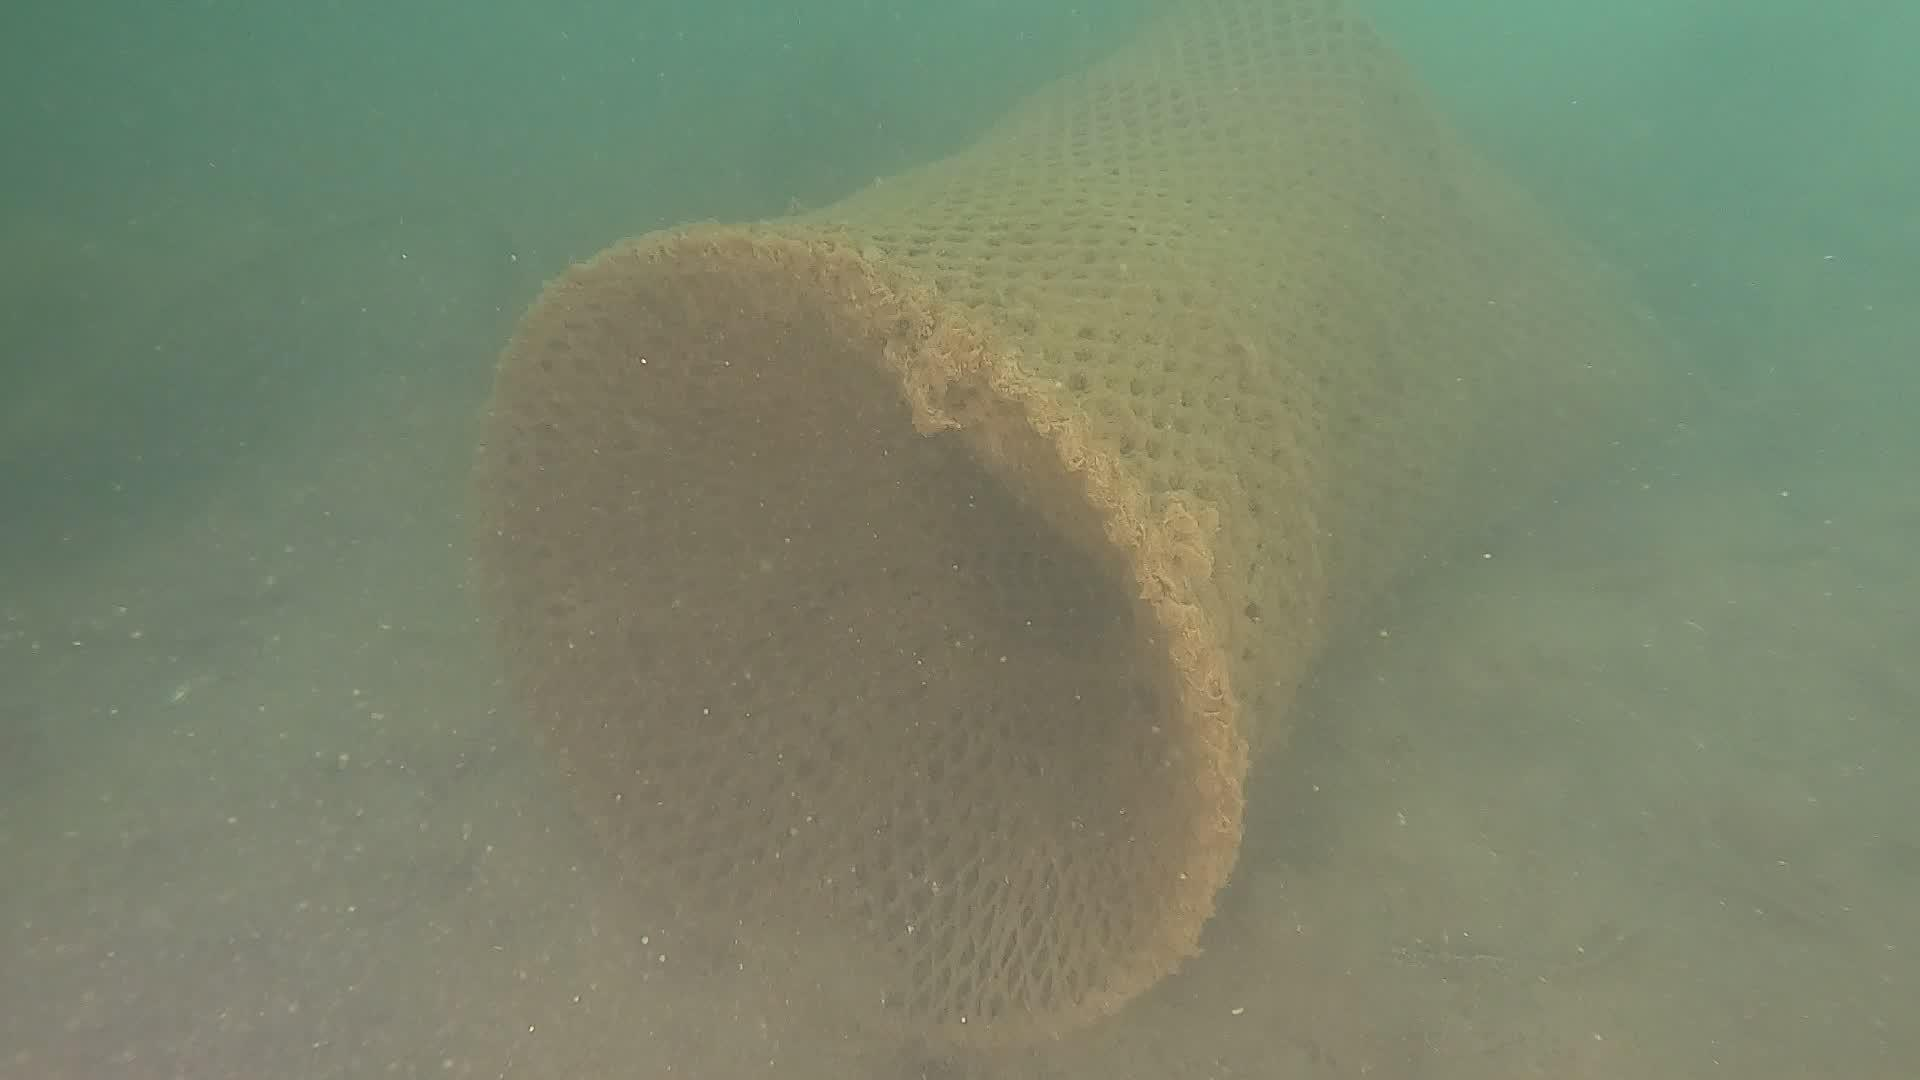spring fish trap: (473, 5, 1665, 1056)
